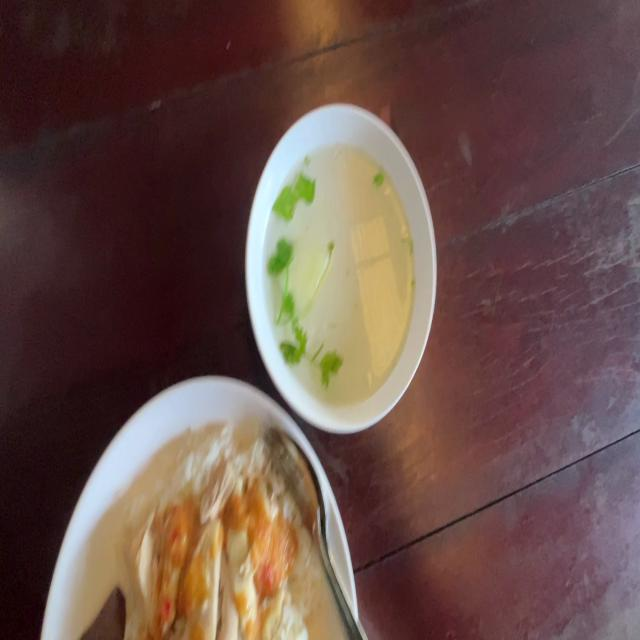chicken_rice: (134, 484, 290, 640)
noodle: (78, 578, 128, 639)
